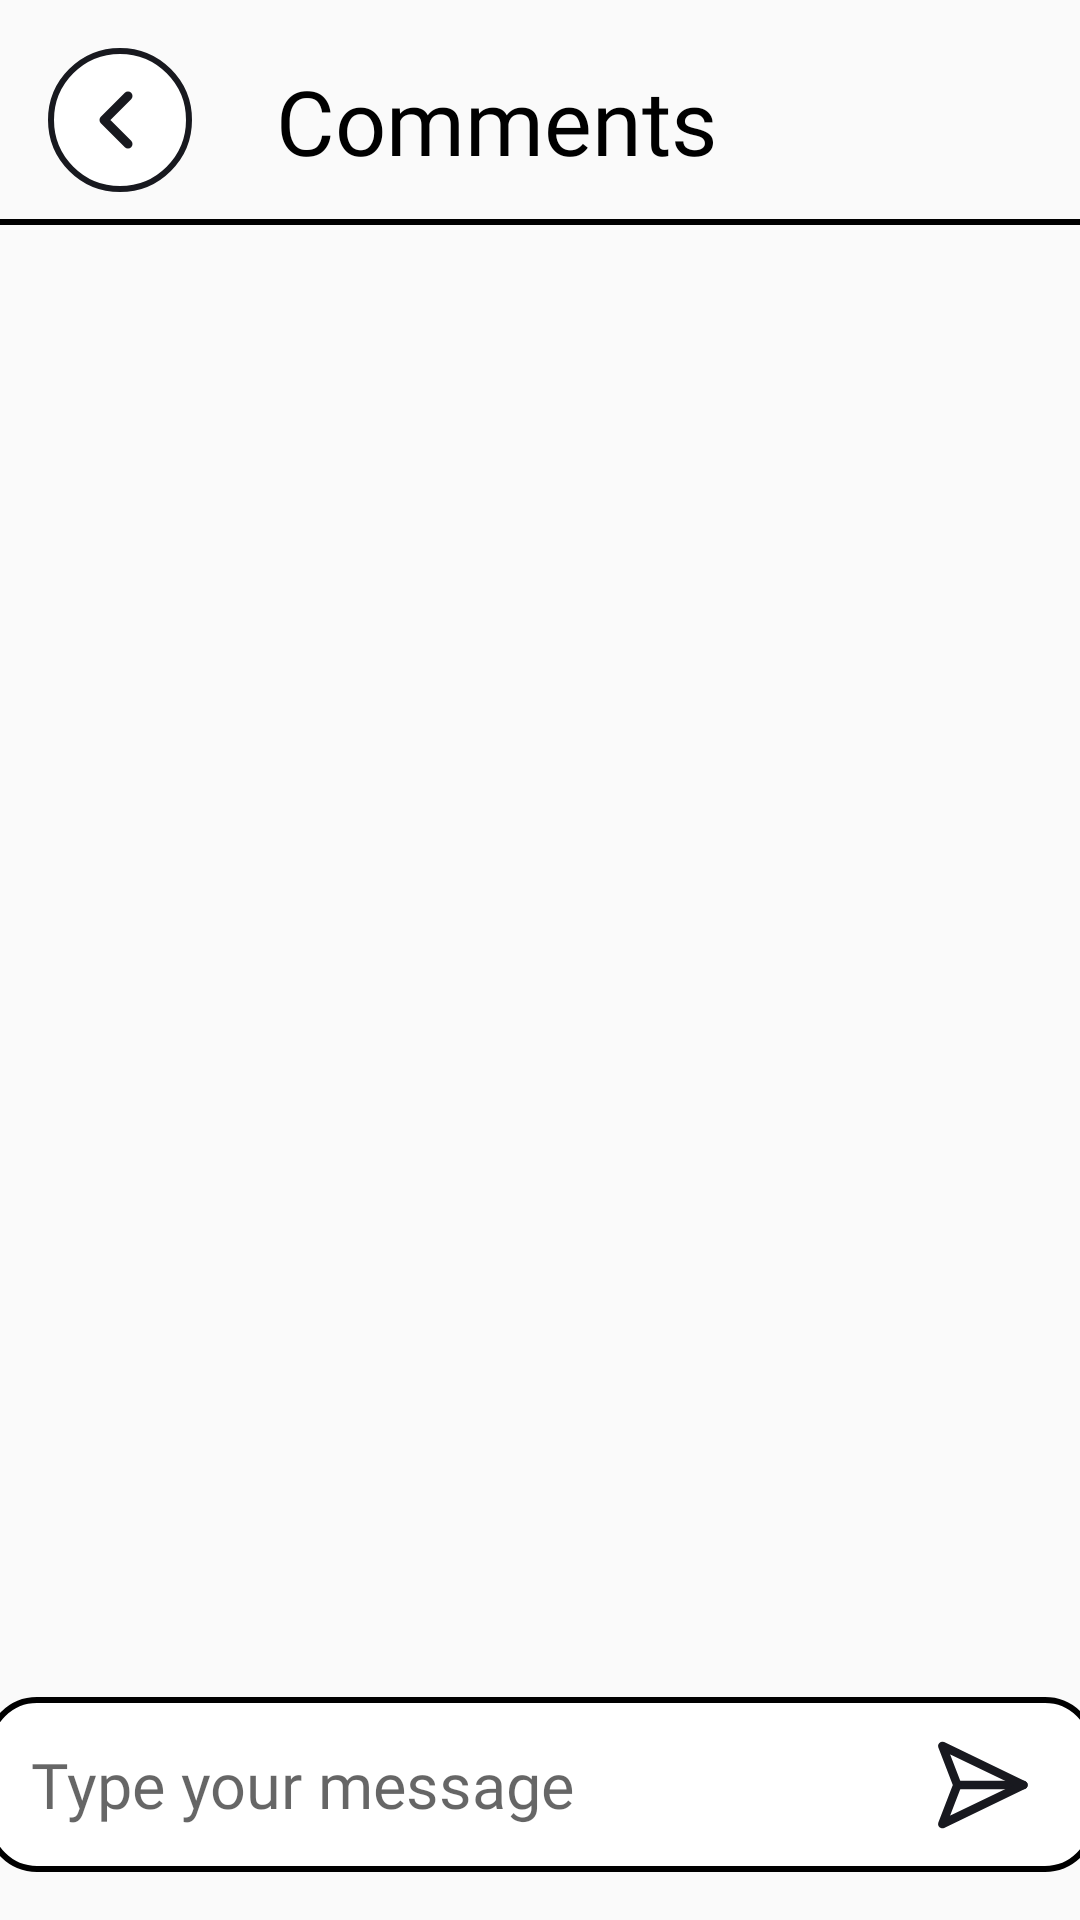

Icons on this 1080px x 1920px Android screen, each with the point to tap as [x,y]:
sendbutton: [983,1785]
